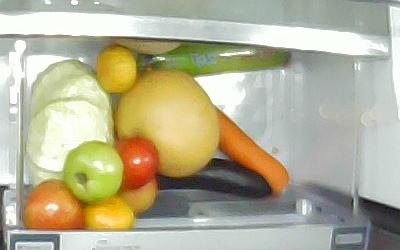cabbage: (29, 60, 115, 204)
carrot: (210, 104, 288, 193)
eggplant: (156, 158, 273, 202)
pear: (114, 71, 221, 176)
prune: (21, 181, 84, 232), (112, 137, 158, 189)
tangerine: (96, 45, 137, 94), (83, 194, 135, 230)
tomato: (66, 141, 123, 202)
zucchini: (133, 43, 292, 76)
